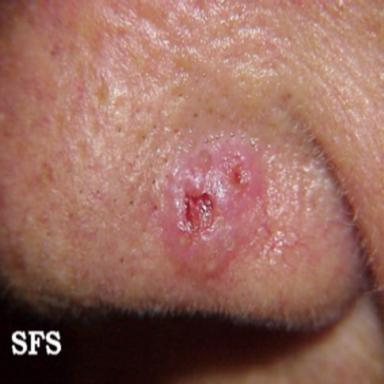basal-cell-carcinoma: (158, 133, 266, 277)
